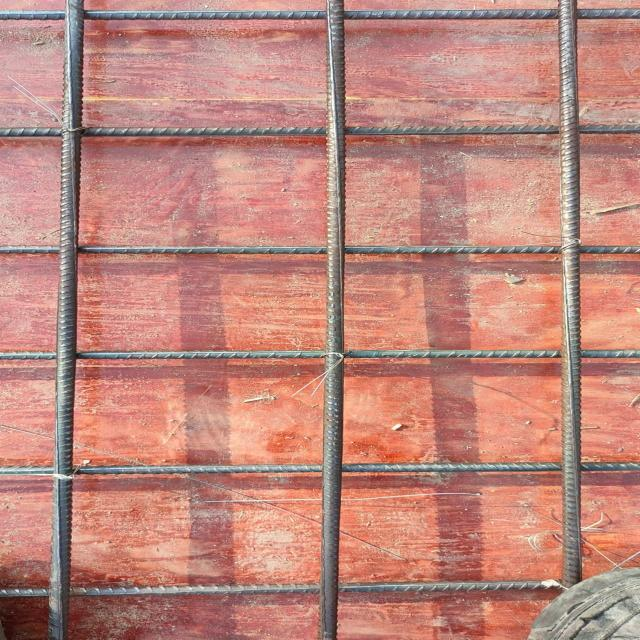ribbed bar: (44, 0, 88, 640), (313, 0, 347, 640), (556, 0, 586, 603), (0, 576, 562, 603), (0, 460, 639, 476), (0, 8, 639, 23), (0, 123, 639, 138), (0, 347, 639, 362), (0, 245, 639, 256)
